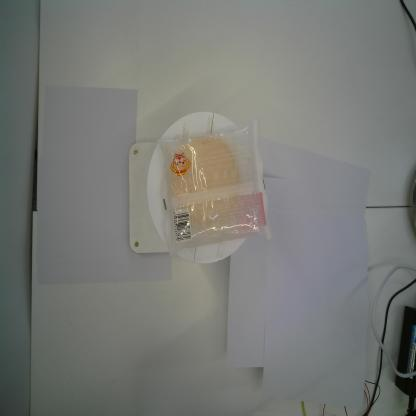Dessert: (156, 117, 274, 257)
